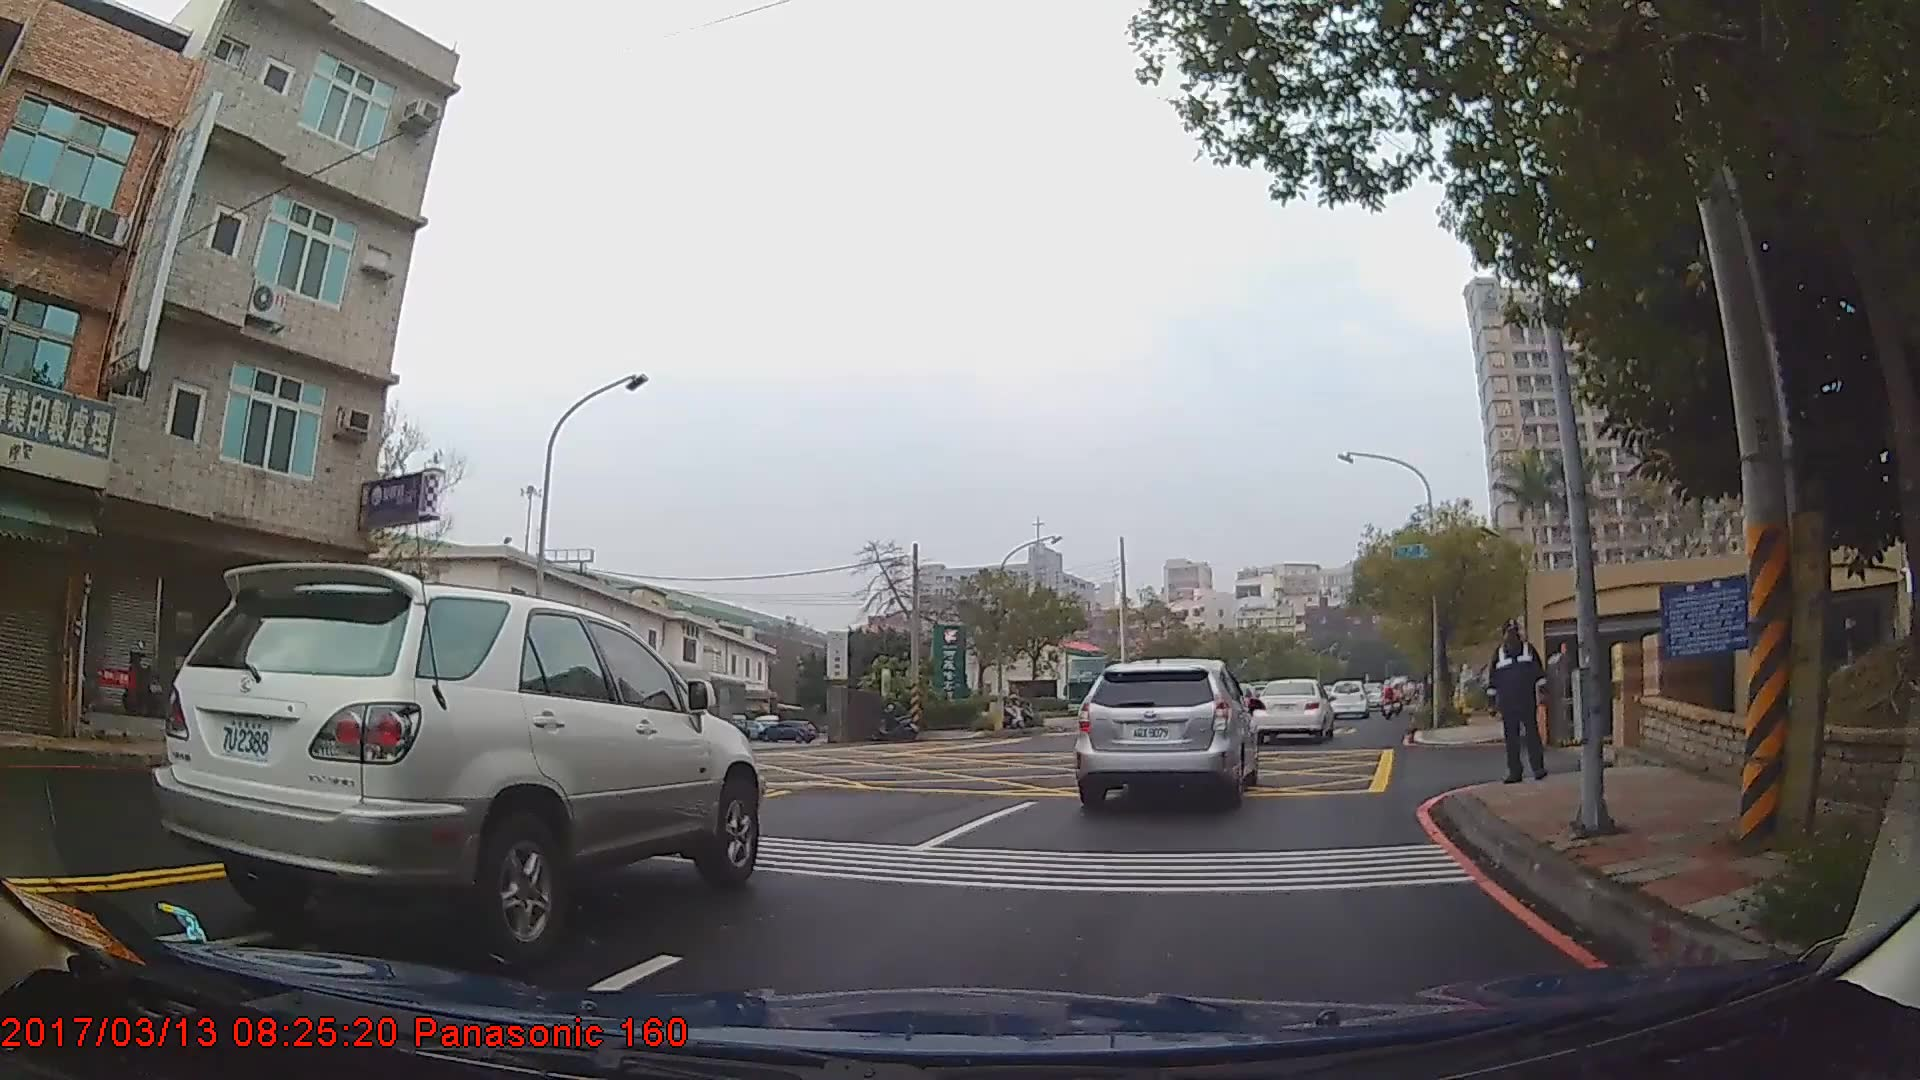pedestrian: (1487, 619, 1553, 784)
vehicle: (152, 564, 764, 963), (1072, 655, 1257, 811), (1250, 678, 1334, 744), (1327, 681, 1371, 723), (758, 721, 820, 743)
